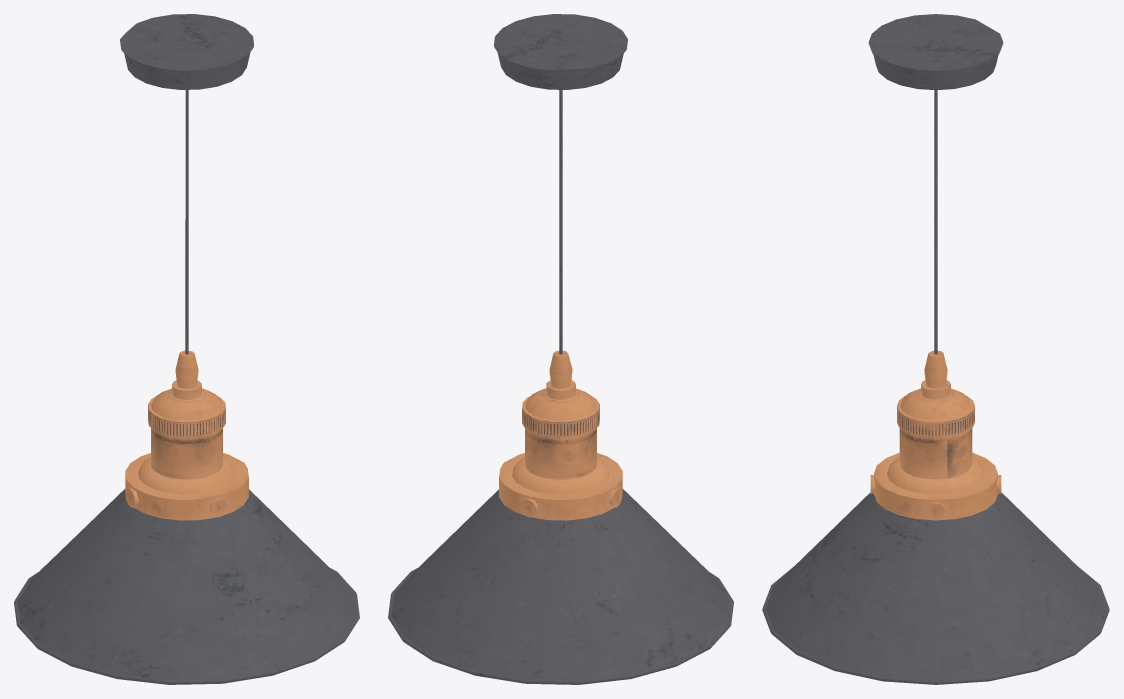
Rendered from lamplight-transformed.glb.
3 views of the same model, side by side, from view 1: azimuth 30°, elevation 25°; view 2: azimuth 150°, elevation 25°; view 3: azimuth 270°, elevation 25° (orthographic).
Parts seen in each view (by area): view 1: Bulb; view 2: Bulb; view 3: Bulb.
Part boxes in pixels (left/top/right/bottom): Bulb: left=14, top=14, right=359, bottom=684; Bulb: left=388, top=14, right=733, bottom=684; Bulb: left=762, top=14, right=1109, bottom=684.
Size of the model in its own units: 0.6661 by 1.25 by 0.6661.
1 material, 1 textured.
